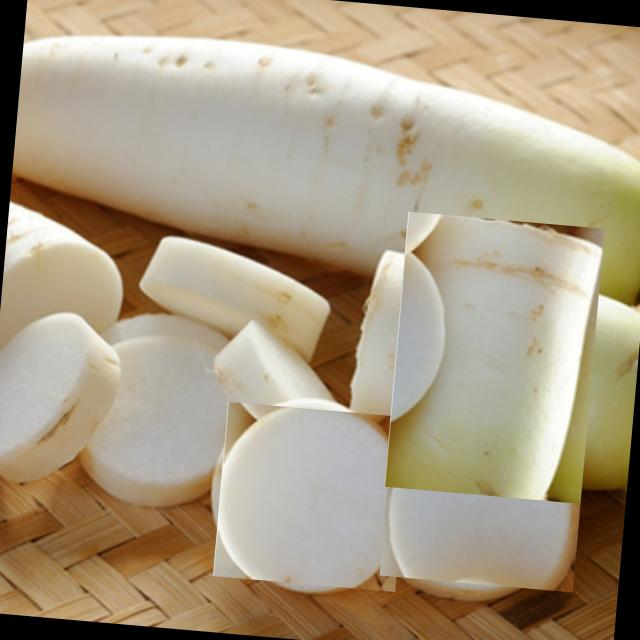radish: (367, 230, 622, 486), (386, 405, 581, 599), (214, 400, 408, 594)
